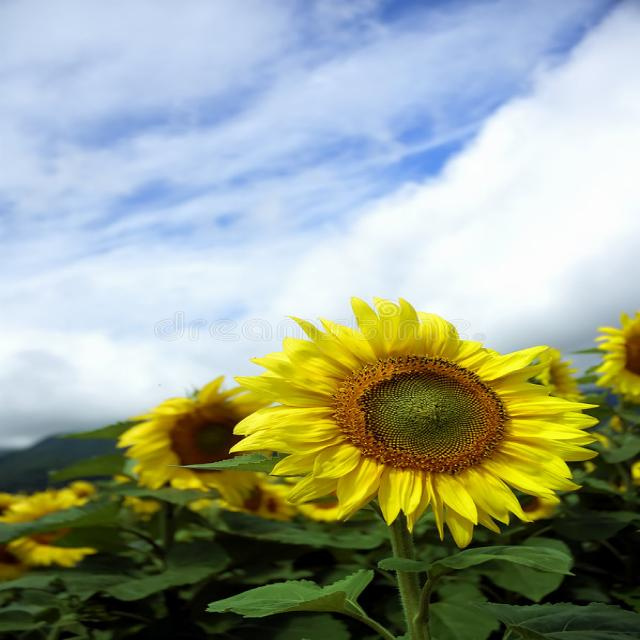sunflower: (241, 282, 613, 544), (119, 367, 310, 507)
